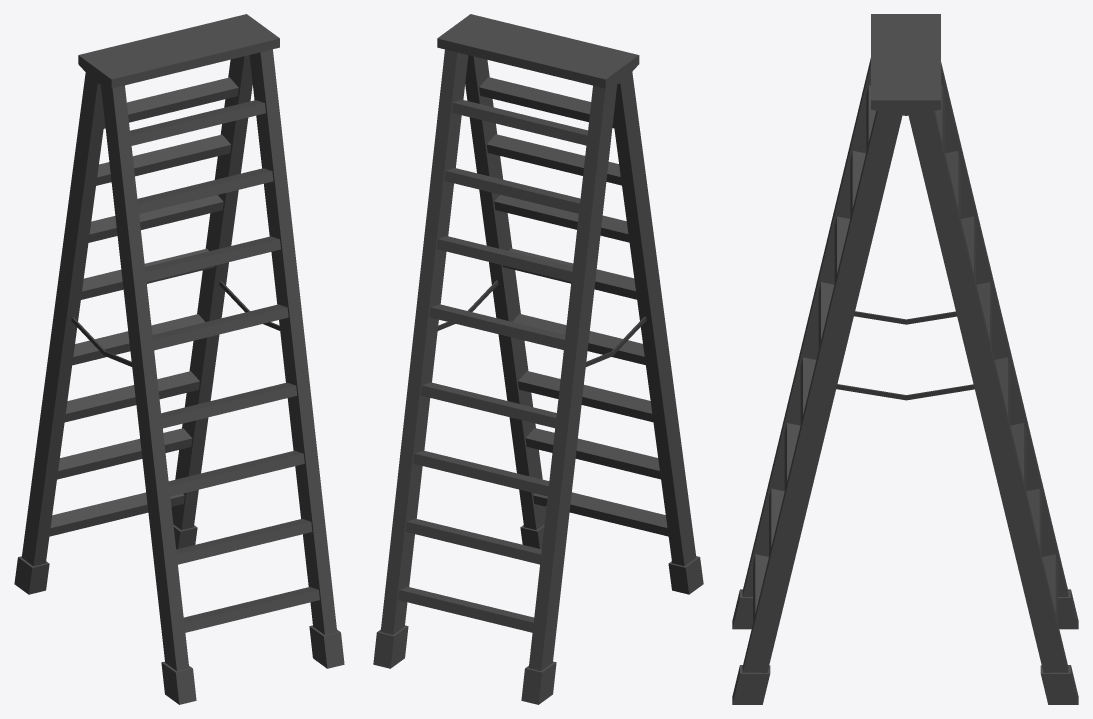
Rendered from LP_Stairs.fbx.
3 views of the same model, side by side, from view 1: azimuth 30°, elevation 25°; view 2: azimuth 150°, elevation 25°; view 3: azimuth 270°, elevation 25° (orthographic). The views are drawn at different scales.
Parts seen in each view (by area): view 1: LP_Stairs; view 2: LP_Stairs; view 3: LP_Stairs.
Part boxes in pixels (bbox=[...]): LP_Stairs: bbox=[14, 14, 344, 704]; LP_Stairs: bbox=[373, 14, 703, 704]; LP_Stairs: bbox=[732, 14, 1078, 704].
Size of the model in its own units: 0.6158 by 2.02 by 1.04.
